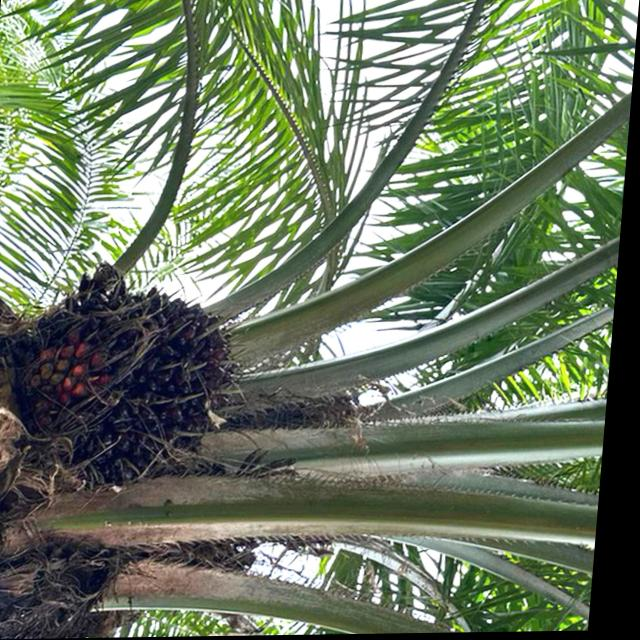ripe: (4, 260, 278, 517)
